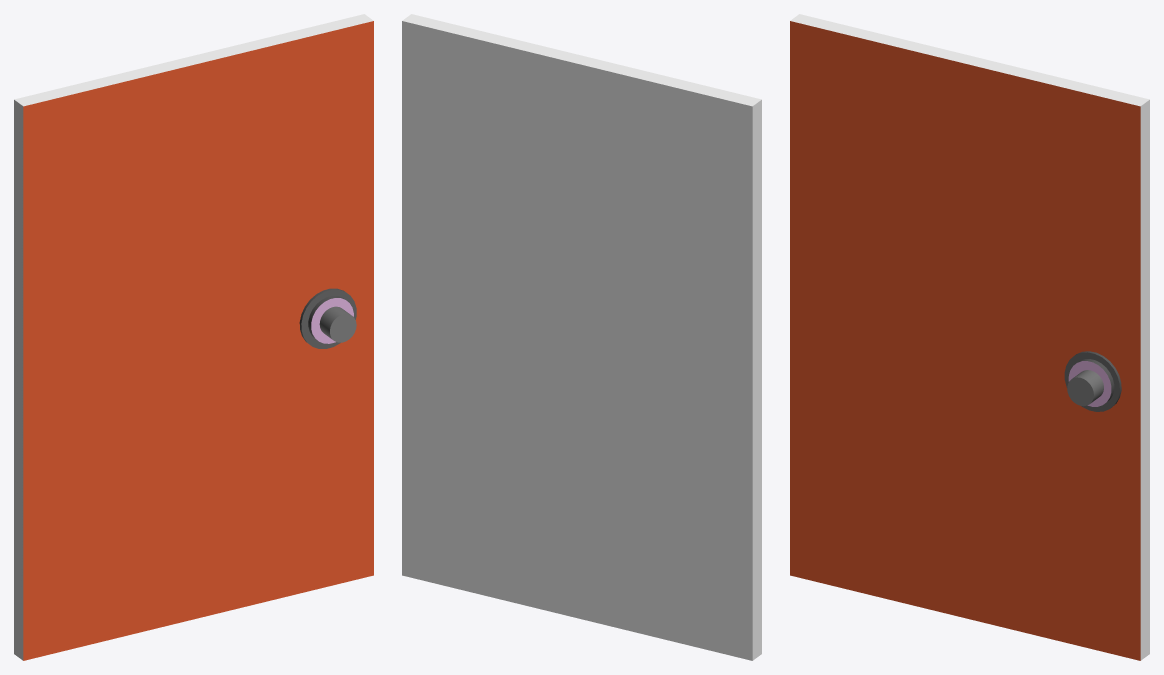
Rendered from ibangsagot2.fbx.
3 views of the same model, side by side, from view 1: azimuth 30°, elevation 25°; view 2: azimuth 150°, elevation 25°; view 3: azimuth 330°, elevation 25° (orthographic).
Parts seen in each view (by area): view 1: Model; view 2: Model; view 3: Model.
Part boxes in pixels (x1,y1,x2,y2): Model: (14,14,373,660); Model: (402,14,761,660); Model: (790,14,1149,660).
Bounding box in the file's own units: 3.42 × 5.17 × 0.4071.
